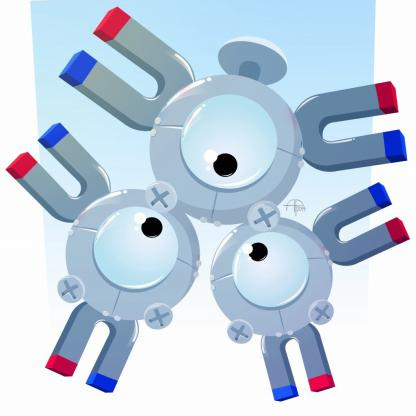Magneton: (7, 8, 416, 406)
